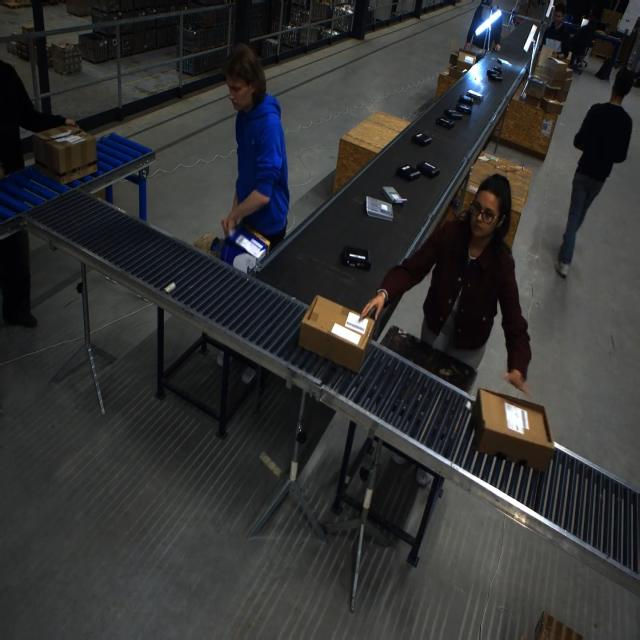box: (472, 389, 554, 471), (301, 296, 371, 372), (32, 125, 97, 185), (220, 226, 273, 273), (548, 72, 572, 96), (453, 48, 478, 71), (543, 55, 568, 75), (525, 75, 547, 97), (539, 95, 563, 115)
product: (341, 245, 371, 270), (365, 196, 392, 221), (381, 185, 406, 204), (396, 164, 421, 182), (416, 161, 440, 178), (411, 133, 432, 147), (435, 117, 454, 129), (444, 109, 462, 121), (466, 90, 484, 102), (494, 57, 512, 67), (458, 94, 473, 106), (456, 103, 472, 114), (488, 72, 502, 81), (490, 65, 502, 73)
